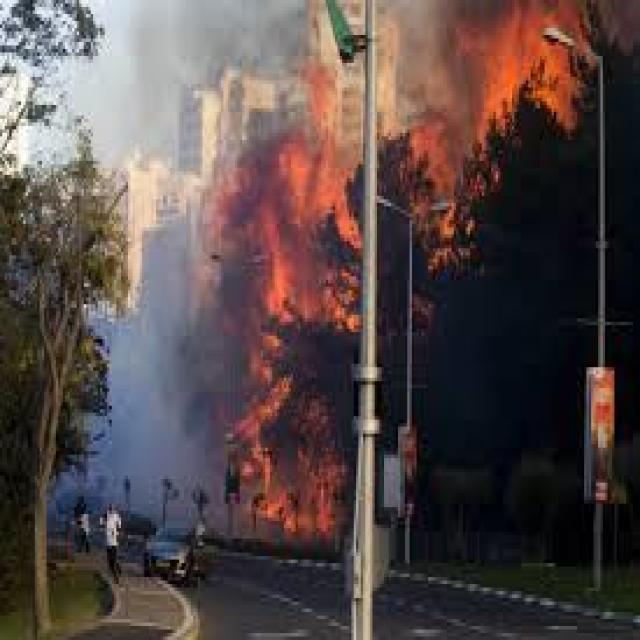Fire: (236, 125, 342, 539), (464, 3, 562, 107)
Smoke: (116, 266, 188, 548), (130, 18, 186, 156)
